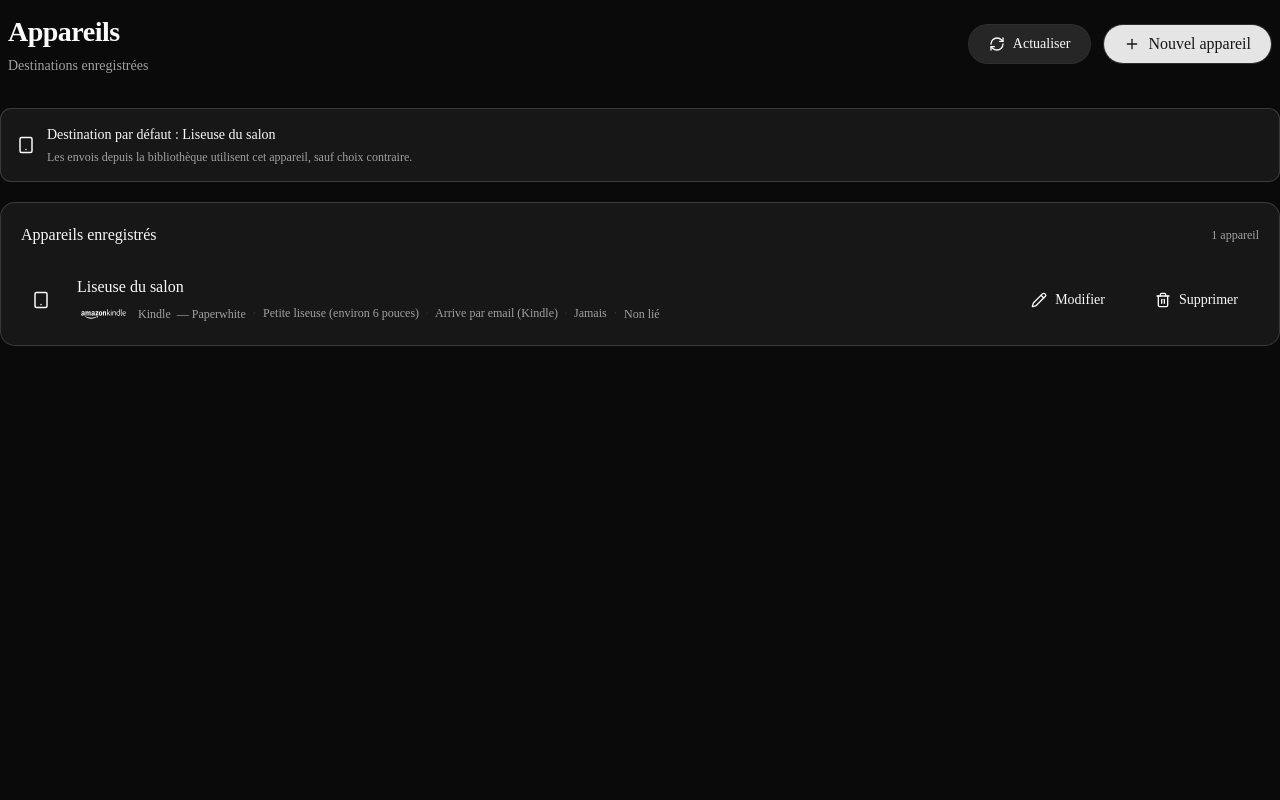
Test: UI harness — devices list › opens the new-device dialog from the list action
The width and height of the screenshot is (1280, 800).
Click the button "Nouvel appareil".
click(1188, 44)  # box [1103,24,1272,64]
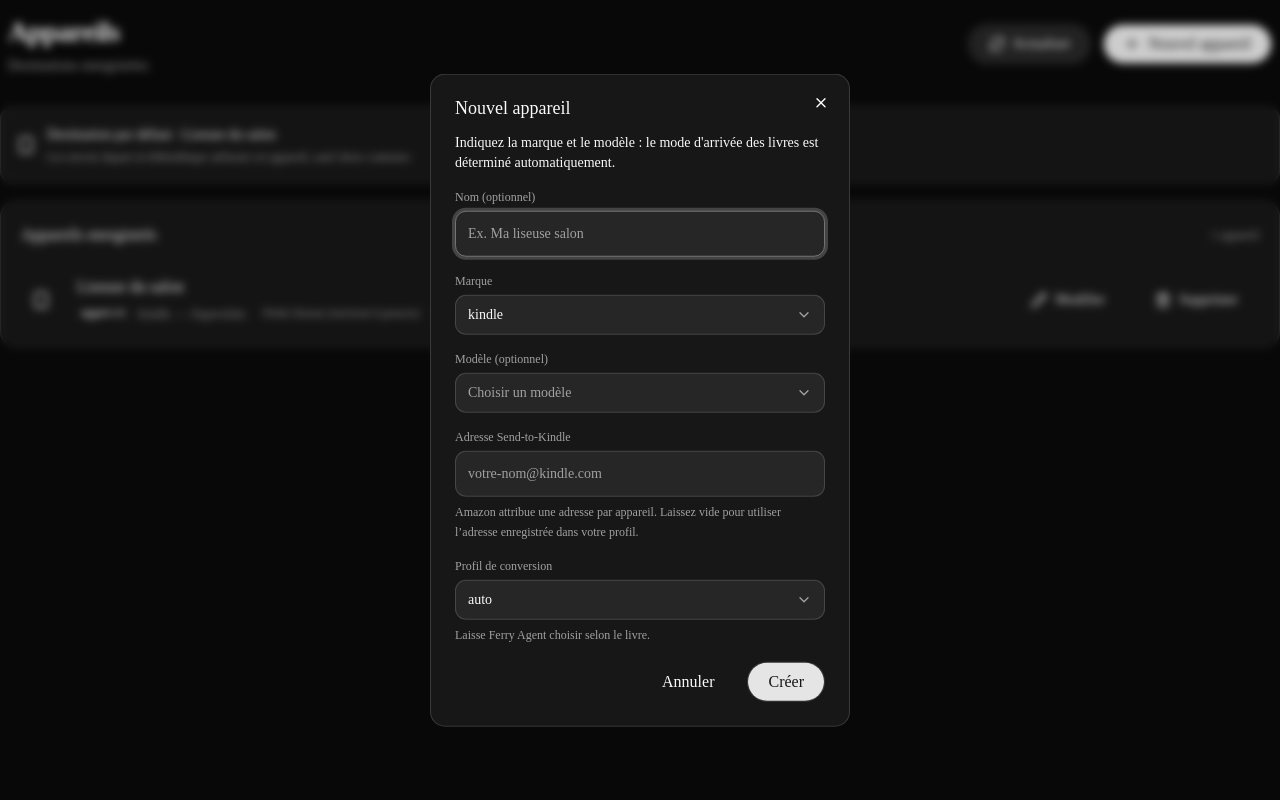
Expected: the heading "Nouvel appareil" is shown, [455,98,570,118]
Expected: the text "Indiquez la marque et le modèle : le mode d'arrivée" is shown, [455,135,818,170]
